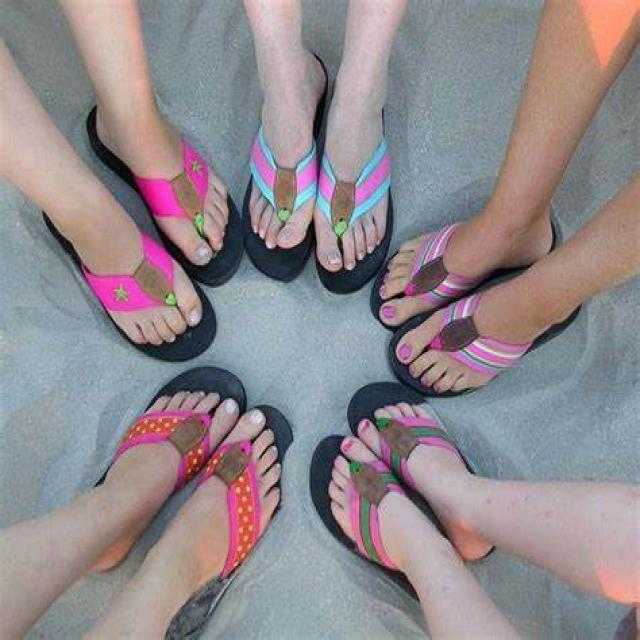No_Shoe: (2, 380, 284, 628), (15, 96, 241, 379), (305, 375, 509, 640), (363, 200, 620, 407), (87, 79, 250, 294), (241, 52, 344, 282), (313, 64, 395, 285)
